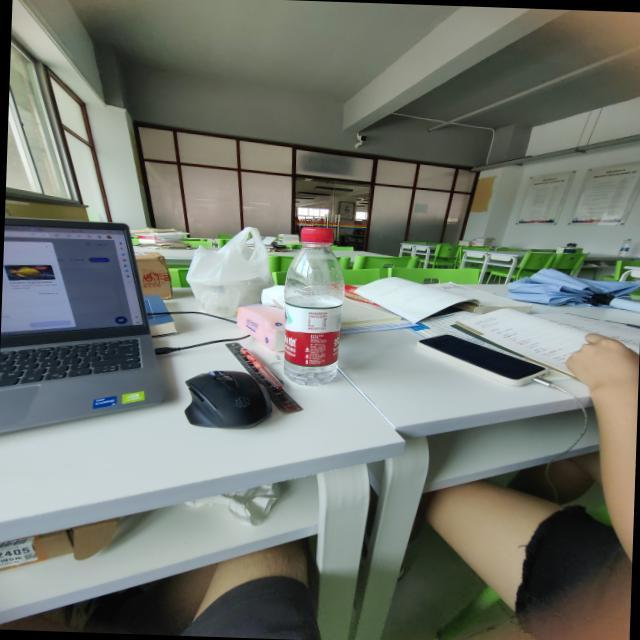good: (278, 221, 346, 389)
